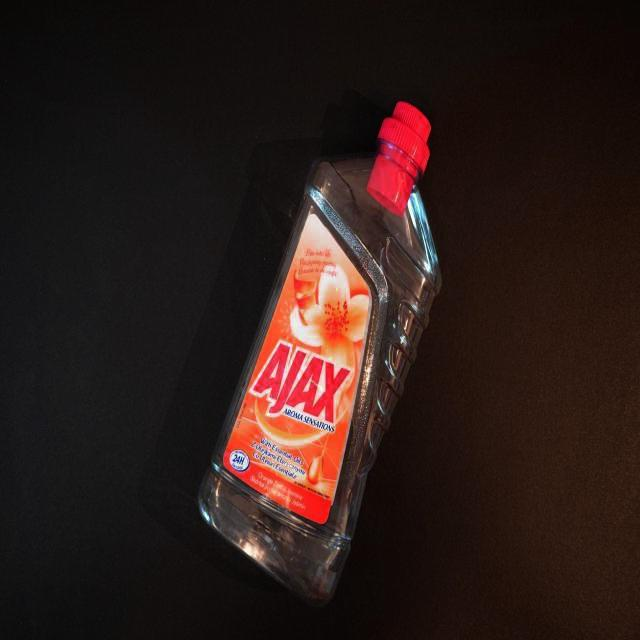bottle: (198, 101, 443, 607)
